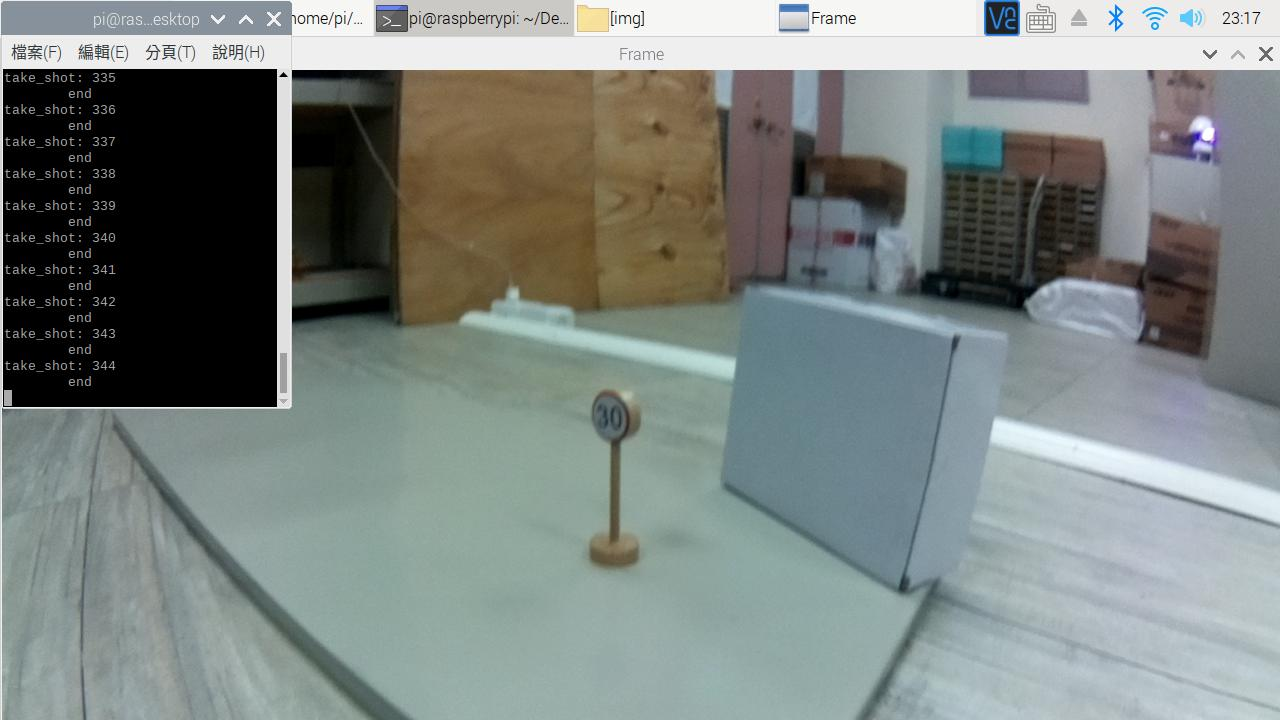Speed30: (578, 377, 661, 459)
